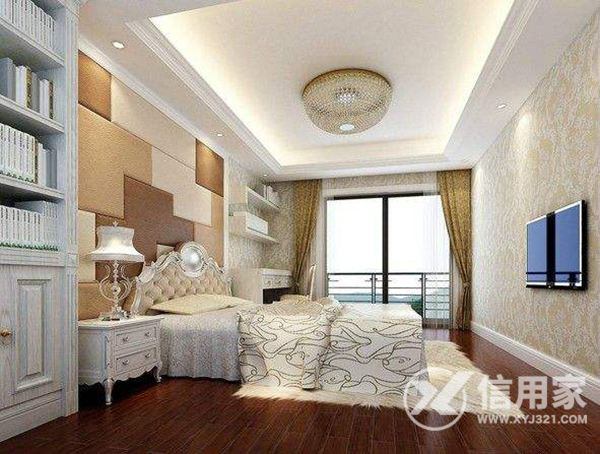床: (136, 299, 417, 400)
枕头: (154, 292, 250, 313)
灯: (298, 63, 395, 141), (83, 221, 141, 315), (494, 101, 509, 111), (110, 40, 125, 50), (214, 133, 226, 143)
